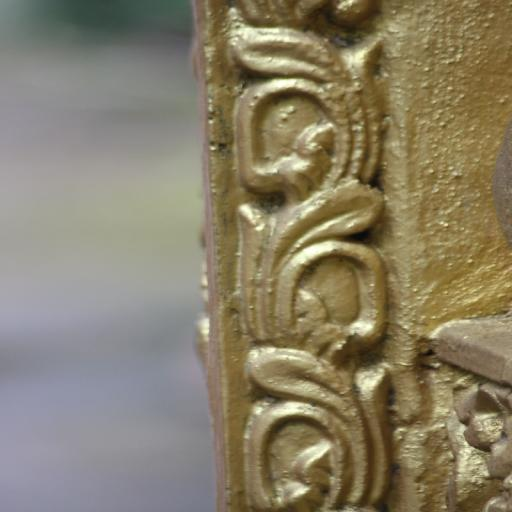la: (207, 12, 388, 512)
